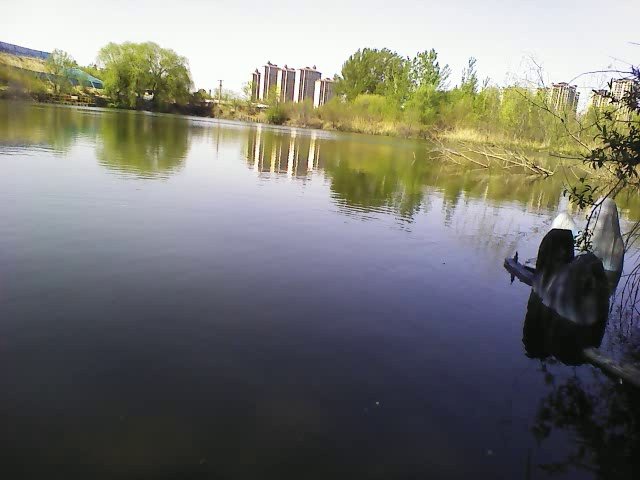iceberg: (550, 194, 627, 273)
rock: (533, 224, 615, 332)
submarine: (502, 250, 535, 286)
